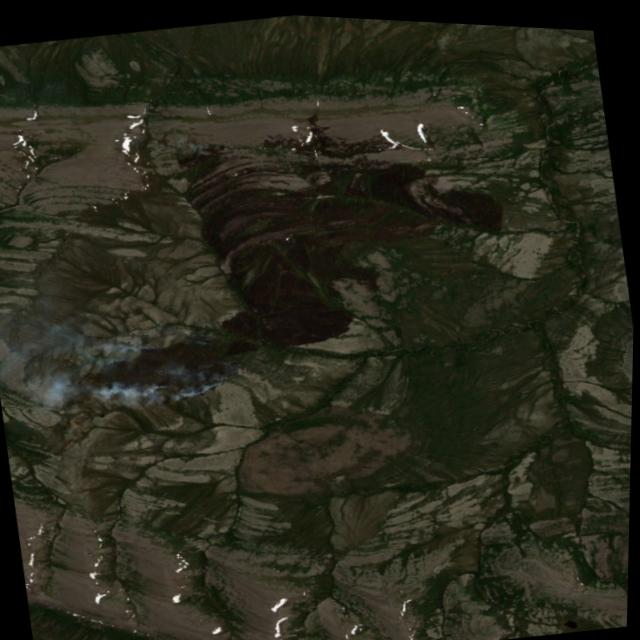fire: (92, 319, 241, 412)
